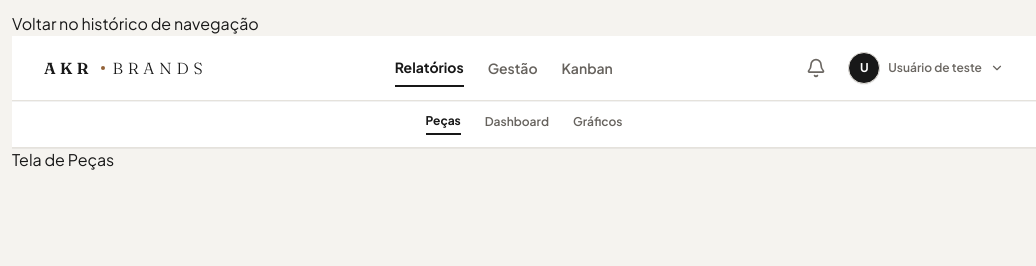
it: Submenu horizontal de Relatórios › continua fechando o menu da conta ao clicar fora
Click the button with aria-label "Conta de Usuário de teste" at (926, 68), box top-left (848, 48), bottom-right (1004, 88)
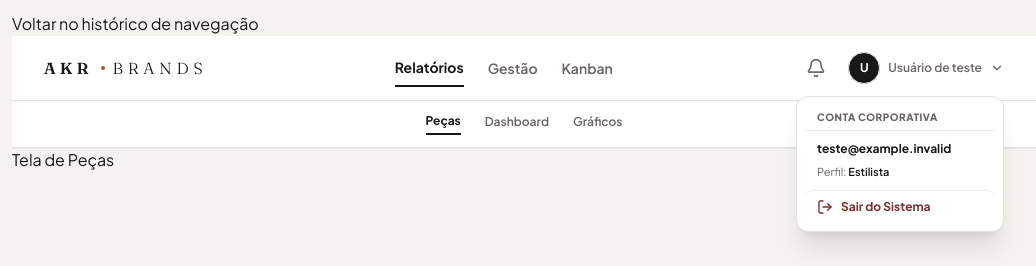
Expected: the button "Sair do Sistema" is shown, top-left (805, 190), bottom-right (995, 223)
Press the mouse on the heading "Tela de Peças" at (63, 160), box top-left (12, 149), bottom-right (114, 170)
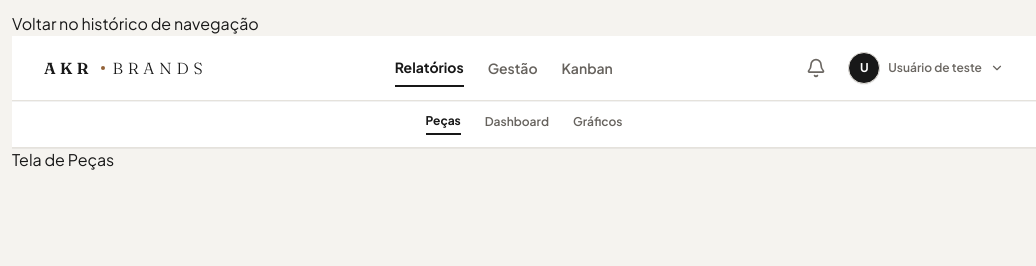
Expected: the button "Sair do Sistema" is gone
